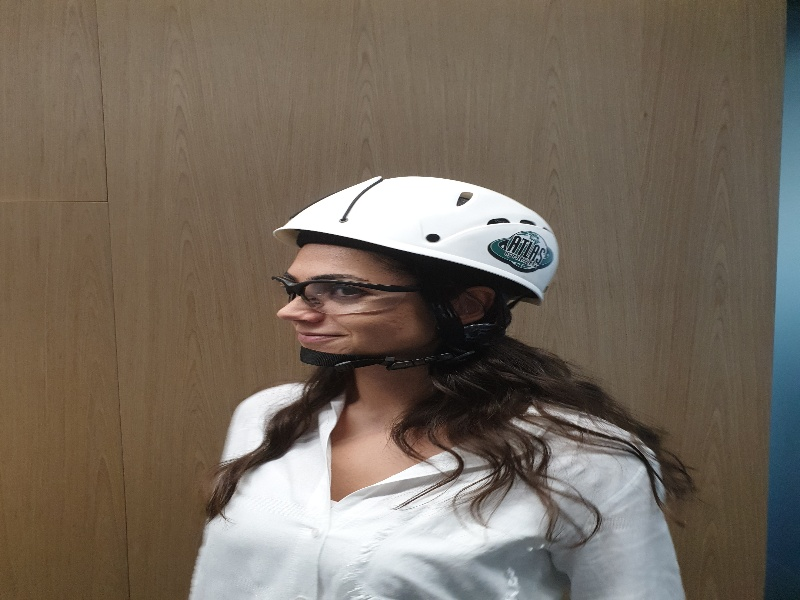Baret: (278, 154, 574, 282)
Gozluk: (269, 268, 428, 313)
